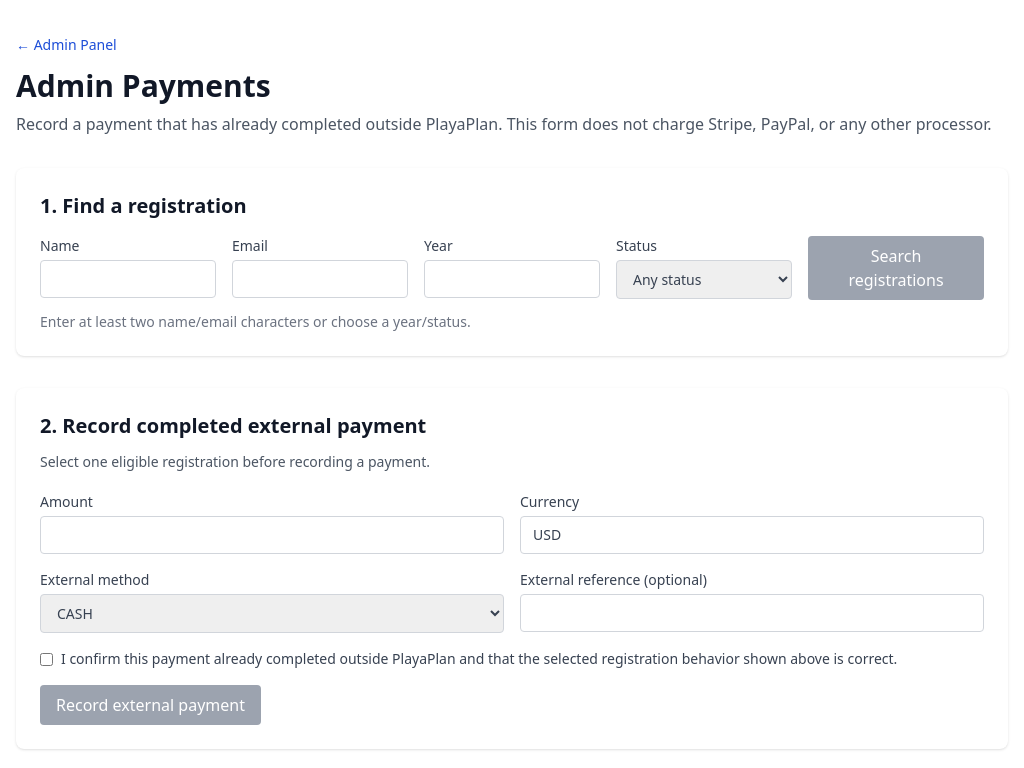
AdminPaymentsPage › should search only after meaningful input and show the derived owner
Check: the button "Search registrations" is disabled, box [808, 236, 984, 300]
Type "Pat" into the field named "Registration name".
click(128, 279); type("Pat")  # box [40, 260, 216, 298]
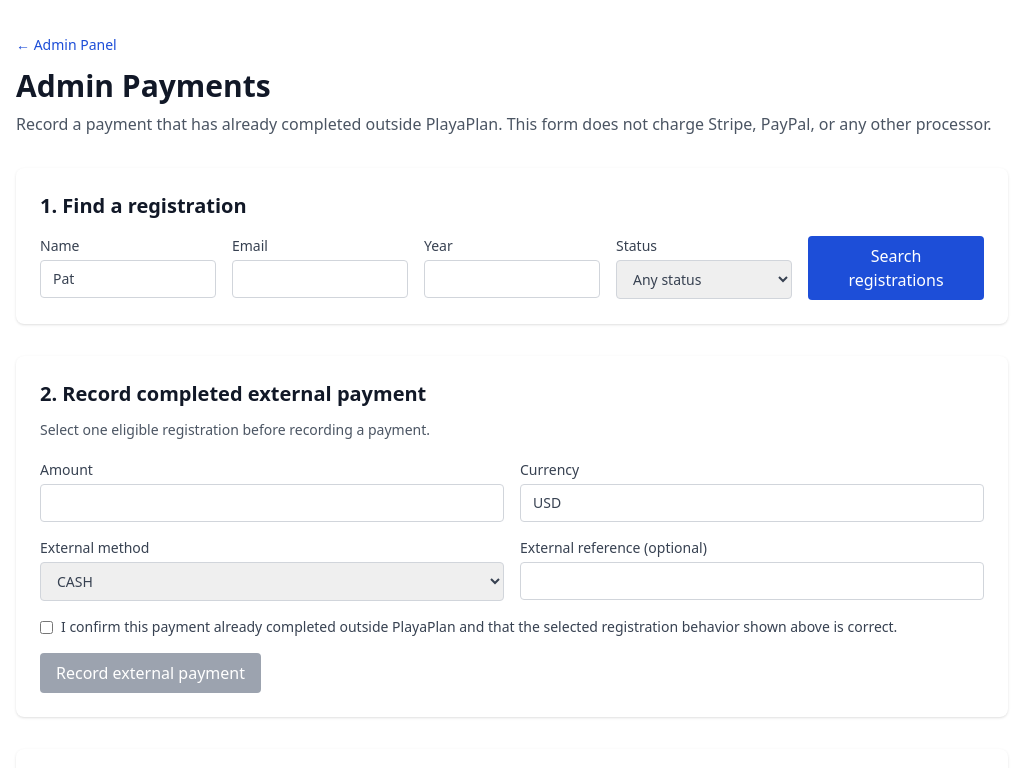
Click the button "Search registrations".
click(896, 268)  # box [808, 236, 984, 300]
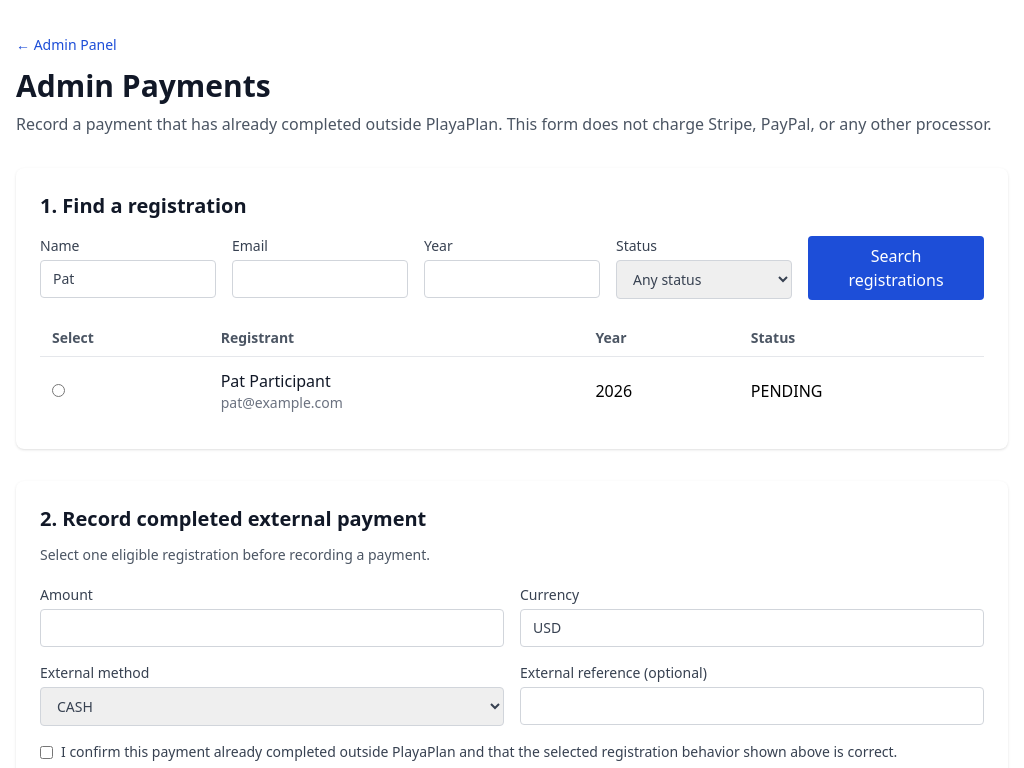
Check: the text "pat@example.com" is shown, box [221, 393, 343, 412]
Click the radio button named "Select Pat Participant".
click(58, 390)  # box [52, 384, 65, 397]
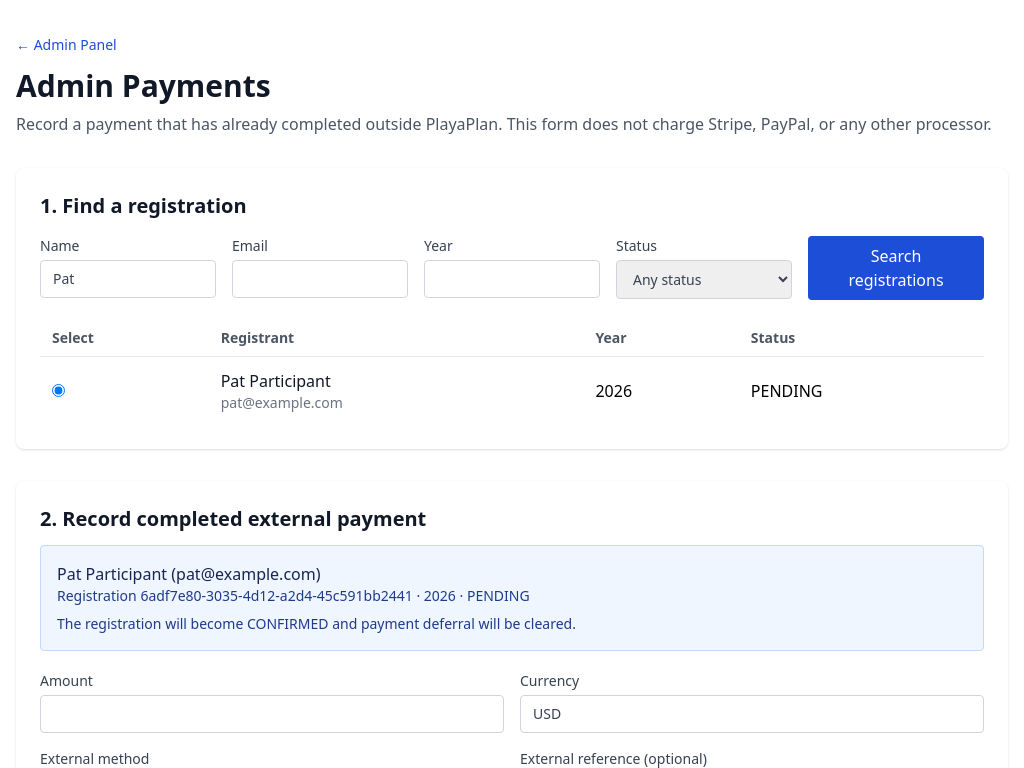
Check: the text "does not charge Stripe, PayPal, or any other processor" is shown, box [16, 113, 992, 135]
Check: the text "The registration will become CONFIRMED" is shown, box [57, 614, 576, 633]
